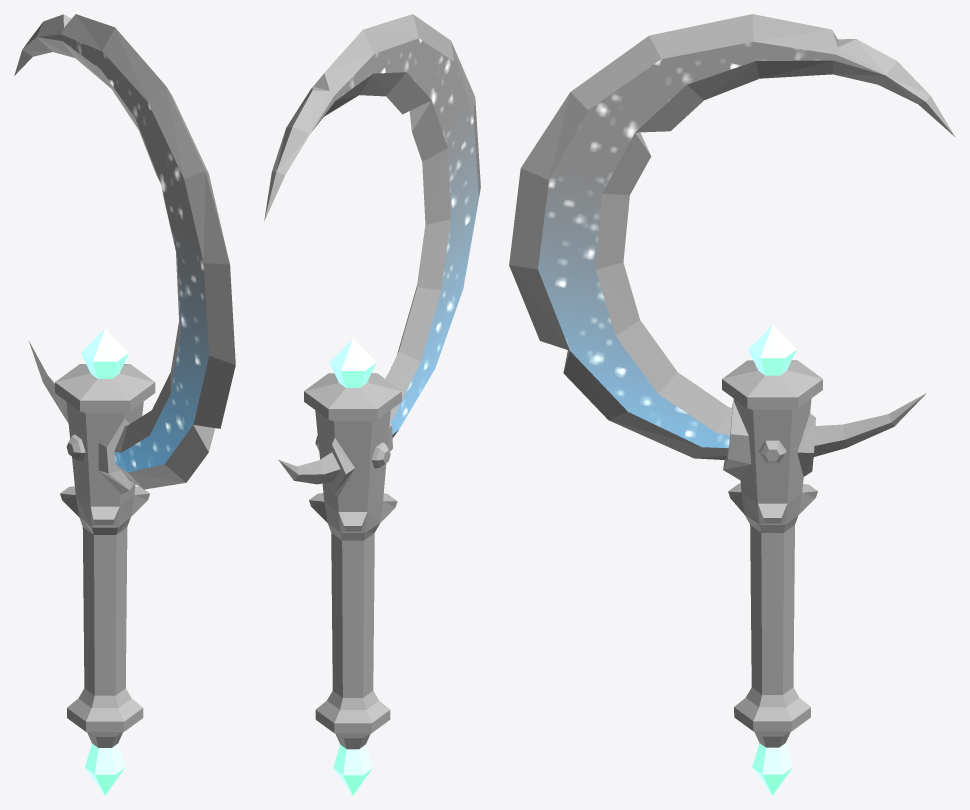
File: SM_Wep_Dagger_06.fbx
3 renders of one model, left to right at view 1: azimuth 30°, elevation 25°; view 2: azimuth 150°, elevation 25°; view 3: azimuth 270°, elevation 25°, orthographic. The views are drawn at different scales.
Visible parts, largest first — view 1: SM_Wep_Dagger_06; view 2: SM_Wep_Dagger_06; view 3: SM_Wep_Dagger_06.
Part boxes in pixels (x1,y1,x2,y2): SM_Wep_Dagger_06: [14, 14, 235, 795]; SM_Wep_Dagger_06: [264, 14, 480, 795]; SM_Wep_Dagger_06: [509, 14, 954, 795].
Size of the model in its own units: 8.96 by 84.9 by 43.96.
